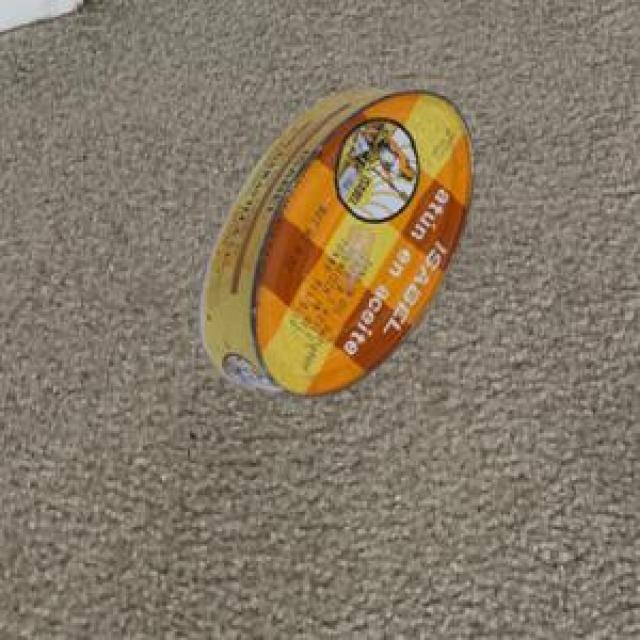logam: (195, 86, 470, 396)
